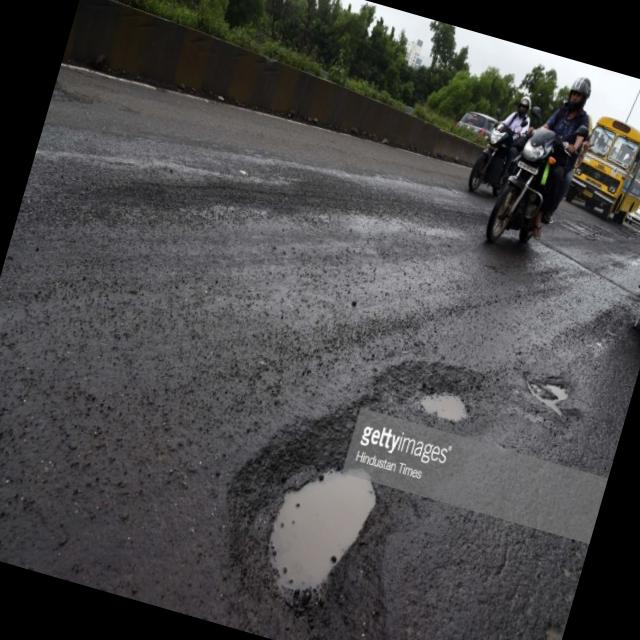Potholes: (186, 289, 495, 640), (512, 342, 604, 438)
